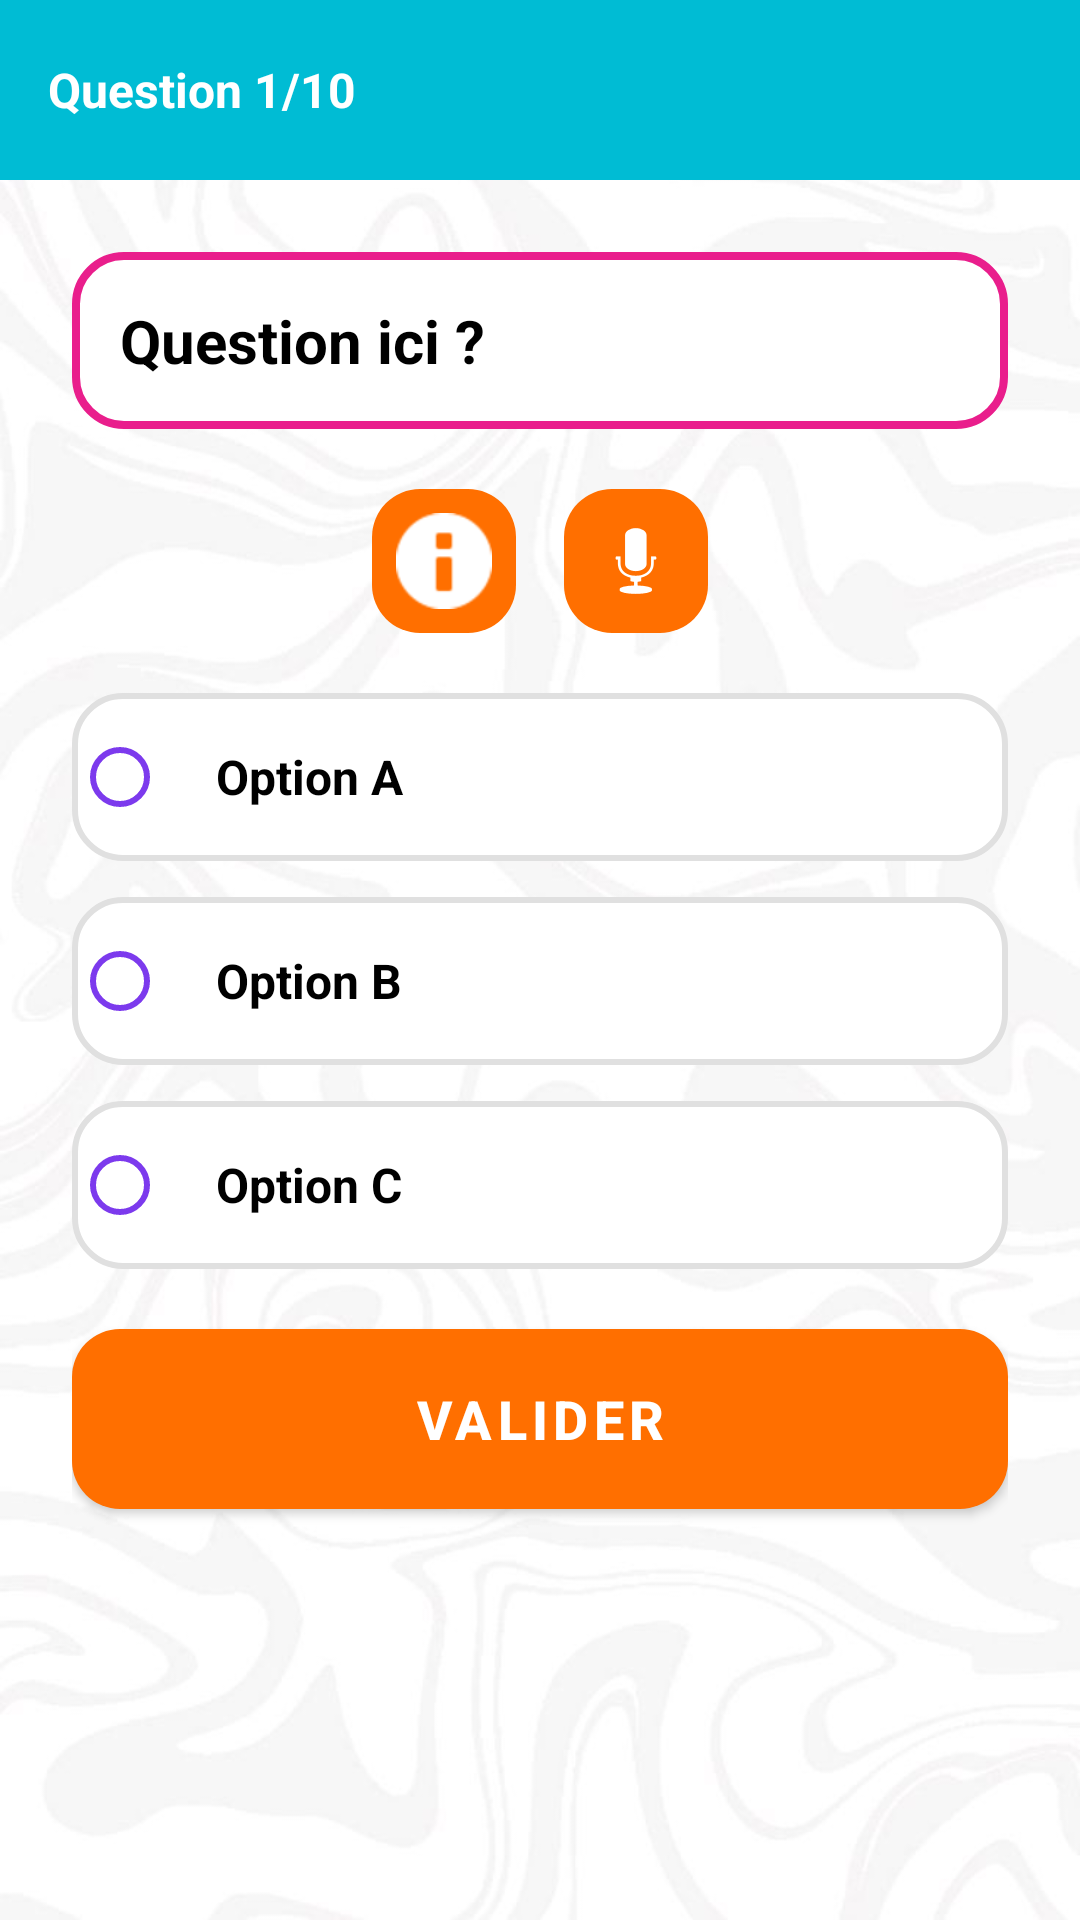

Where icons sit on this 1080x1920 app screen, as (x1, y1, x2, y2):
Indice: (372, 489, 516, 633)
Reconnaissance vocale: (564, 489, 708, 633)
